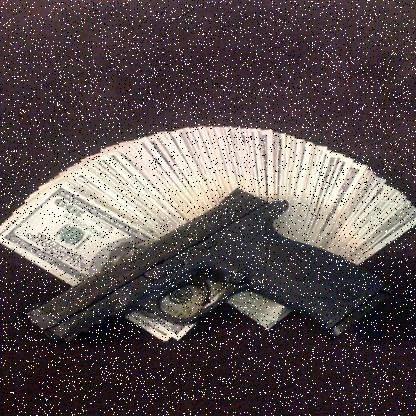pistol: (28, 187, 385, 351)
